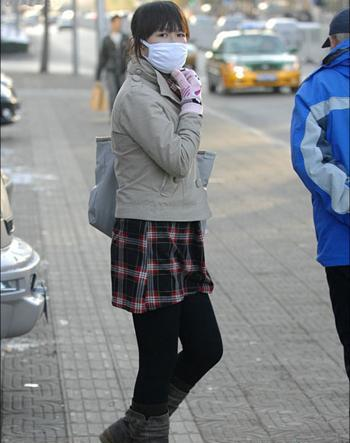OK: (146, 26, 189, 74)
